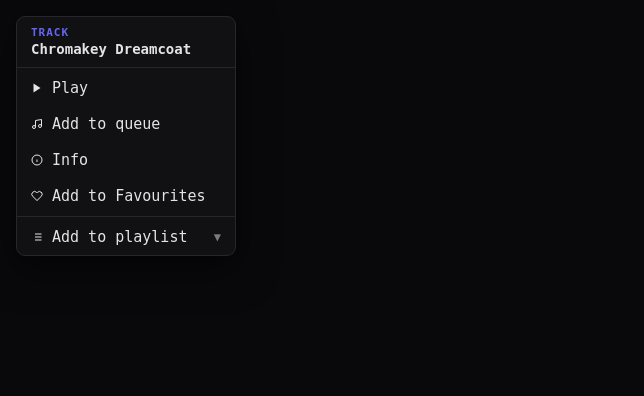
Test case: ContextMenuRoot › prevents duplicate playlist creation from the context menu
The image size is (644, 396).
Click the button "Add to playlist ▼" at (126,237), box [17, 219, 235, 255]
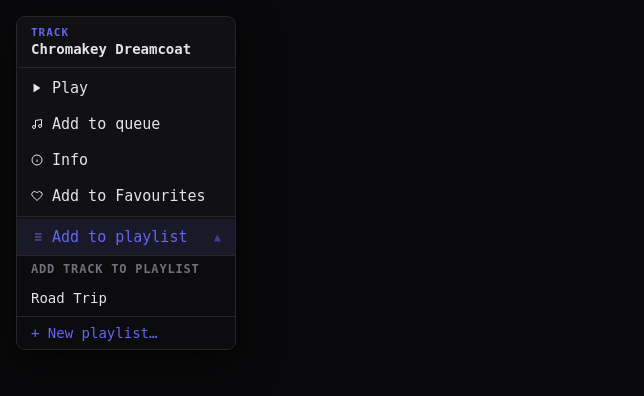
Click the button "+ New playlist…" at (126,332), box [17, 316, 235, 349]
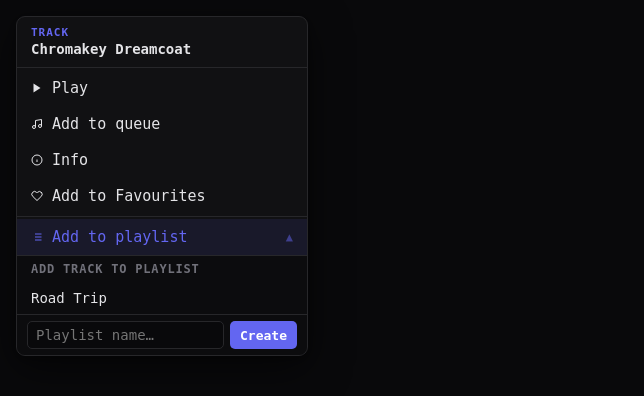
Type "road trip" into the field with placeholder "Playlist name…" at (126,335), box [27, 321, 224, 349]
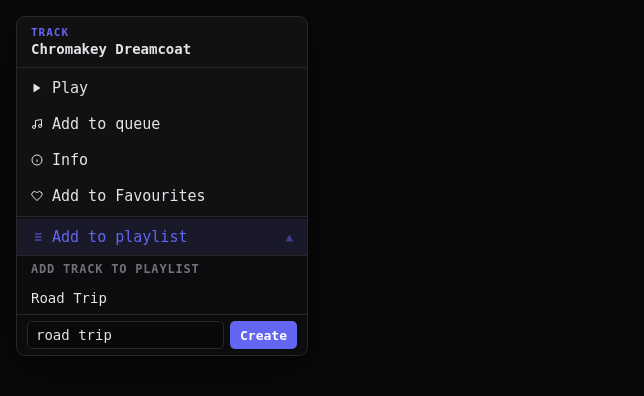
Click the button "Create" at (264,335), box [230, 321, 297, 349]
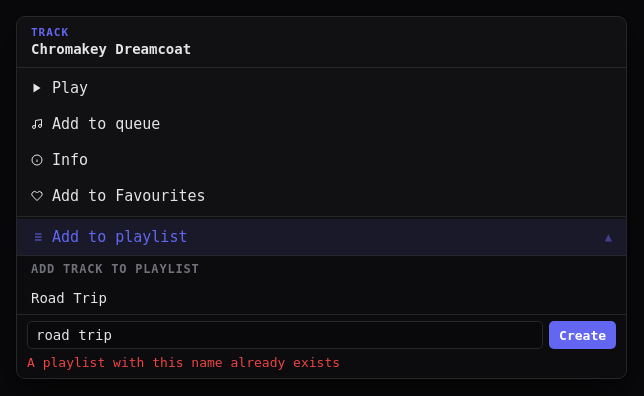
Expected: the text "A playlist with this name already exists" is shown, [27, 355, 340, 370]
